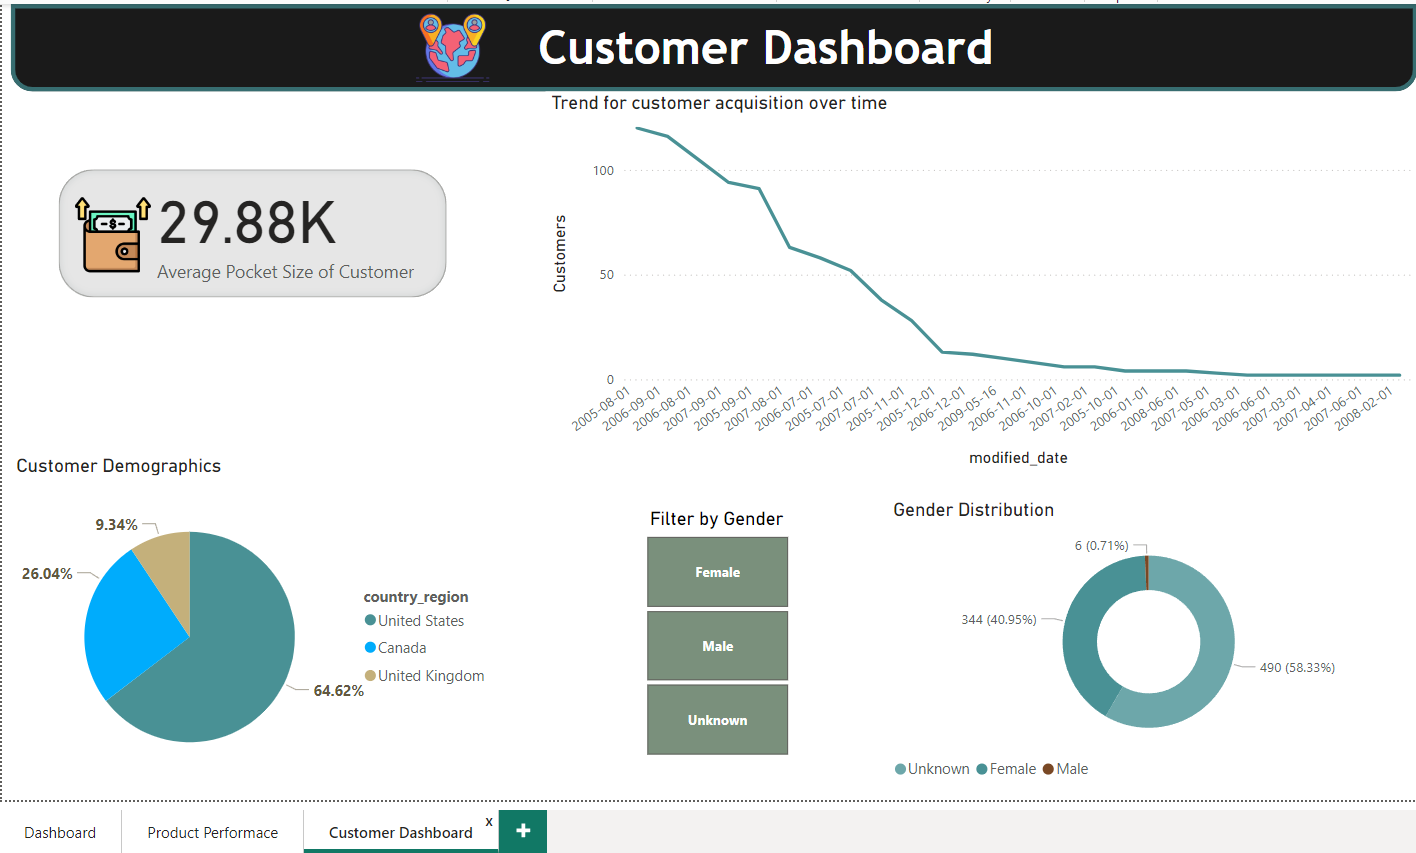

What the dashboard file says about the page in this screenshot:
{"tool":"powerbi","page":{"name":"Customer Dashboard","canvas":[1280,720],"ordinal":2},"visuals":[{"type":"shape","box":[7.9,0,1272.1,79.1],"z":0},{"type":"textbox","box":[193.3,9,994.8,61.5],"z":1000},{"type":"image","box":[363.6,0,87.1,79.4],"z":2000},{"type":"pieChart","title":"Customer Demographics","fields":{"Category":["address.country_region"],"Y":["CountNonNull(Customer.customer_id)"]},"box":[7.7,407.1,443,312.4],"z":3000},{"type":"lineChart","title":"Trend for customer acquisition over time","fields":{"Category":["Customer.modified_date"],"Y":["CountNonNull(Customer.customer_id)"]},"box":[491.6,79.4,788.6,344.4],"z":4000},{"type":"donutChart","title":"Gender Distribution ","fields":{"Category":["Customer.Gender"],"Y":["CountNonNull(Customer.customer_id)"]},"box":[791.2,437.8,489.1,281.7],"z":5000},{"type":"cardVisual","title":"Average Pocket Size of Customer","fields":{"Data":["Avg(Customer.AvgPocketSizePerCustomer)"]},"box":[46.1,144.7,361,126.7],"z":6000},{"type":"slicer","title":"Filter by Gender","fields":{"Values":["Customer.Gender"]},"box":[556.9,455.8,178,230.4],"z":7000}]}

Visuals, with their boxes on the page's 1280x720 design canvas (x1, y1, x2, y2). These are canvas units, not pixel positions in the 1416x853 screenshot, which may show the page scaled, cropped or inside an application window:
shape: {"x1": 8, "y1": 0, "x2": 1280, "y2": 79}
textbox: {"x1": 193, "y1": 9, "x2": 1188, "y2": 70}
image: {"x1": 364, "y1": 0, "x2": 451, "y2": 79}
"Customer Demographics" pieChart: {"x1": 8, "y1": 407, "x2": 451, "y2": 720}
"Trend for customer acquisition over time" lineChart: {"x1": 492, "y1": 79, "x2": 1280, "y2": 424}
"Gender Distribution " donutChart: {"x1": 791, "y1": 438, "x2": 1280, "y2": 720}
"Average Pocket Size of Customer" cardVisual: {"x1": 46, "y1": 145, "x2": 407, "y2": 271}
"Filter by Gender" slicer: {"x1": 557, "y1": 456, "x2": 735, "y2": 686}
